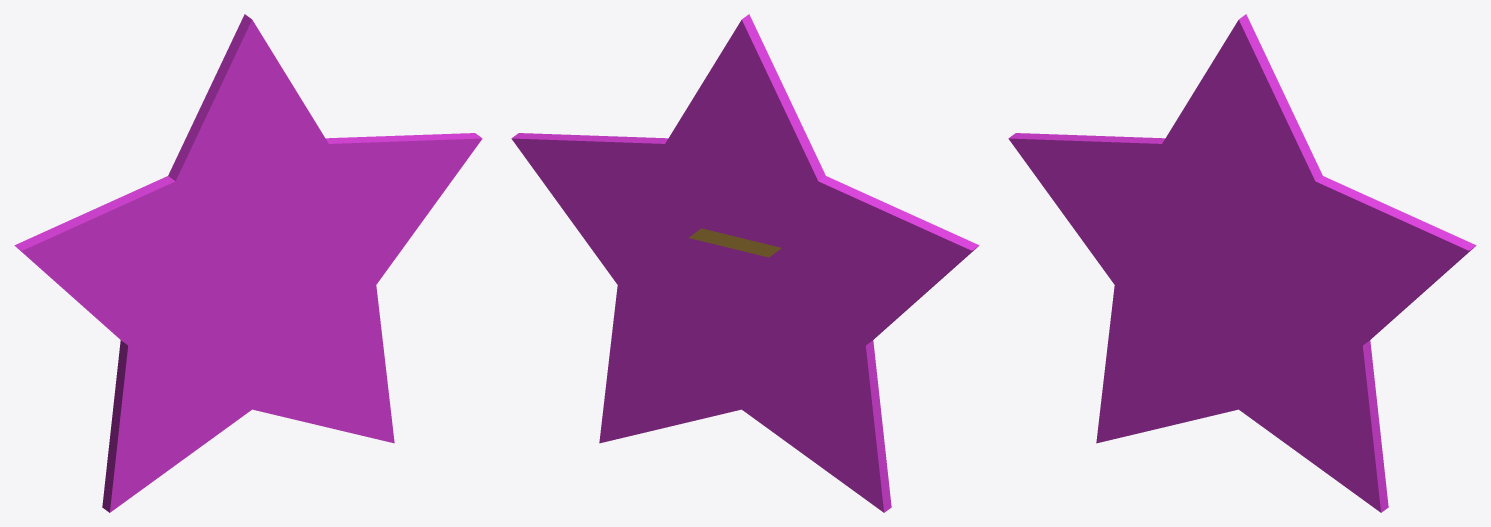
The model's file is starSihlouette.fbx.
3 views of the same model, side by side, from view 1: azimuth 30°, elevation 25°; view 2: azimuth 150°, elevation 25°; view 3: azimuth 330°, elevation 25° (orthographic).
Visible parts, largest first — view 1: Star Silhouette; view 2: Star Silhouette; view 3: Star Silhouette.
Part boxes in pixels (left/top/right/bottom): Star Silhouette: left=14, top=14, right=482, bottom=512; Star Silhouette: left=511, top=14, right=979, bottom=512; Star Silhouette: left=1008, top=14, right=1476, bottom=512.
Size of the model in its own units: 24.33 by 1.89 by 23.14.
